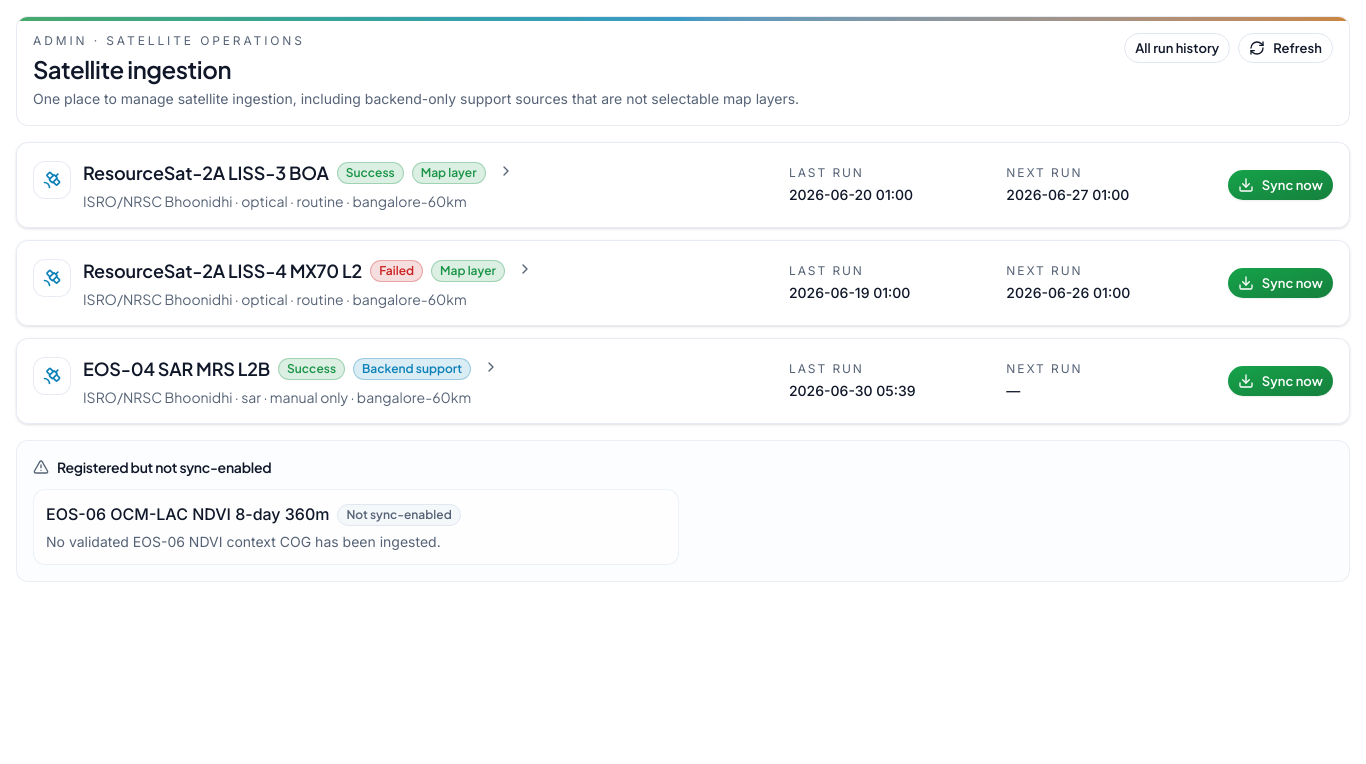
Test case: AdminIngestionSources › shows a clear product-ledger missing message instead of pretending there are no records
Expected: the text "ResourceSat-2A LISS-3 BOA" is shown, [83,159,329,187]
Click the button with aria-label "Expand ResourceSat-2A LISS-3 BOA".
click(403, 185)  # box [33,159,773,211]
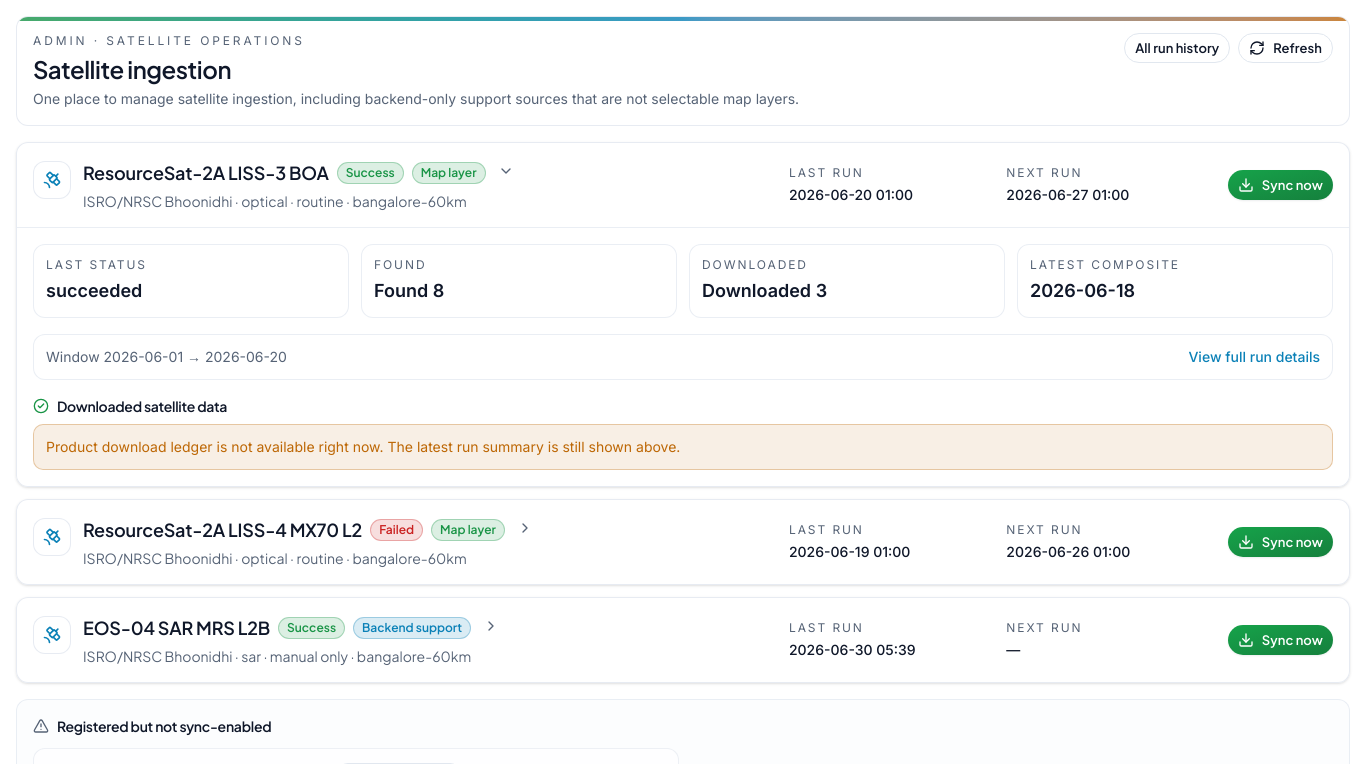
Expected: the text "Product download ledger is not available" is shown, [46,438,680,455]
